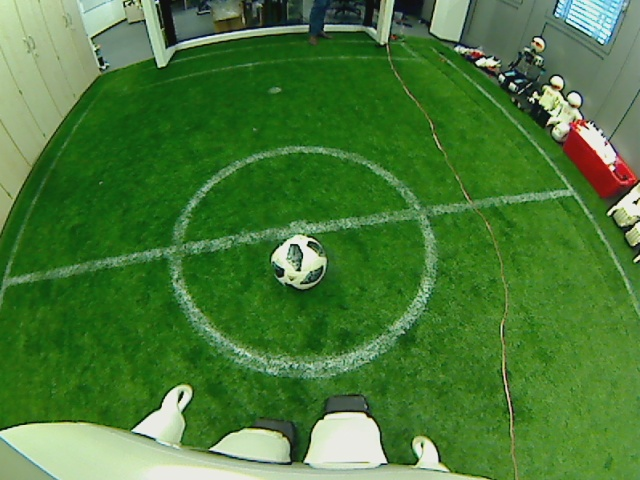ball: (270, 233, 328, 289)
